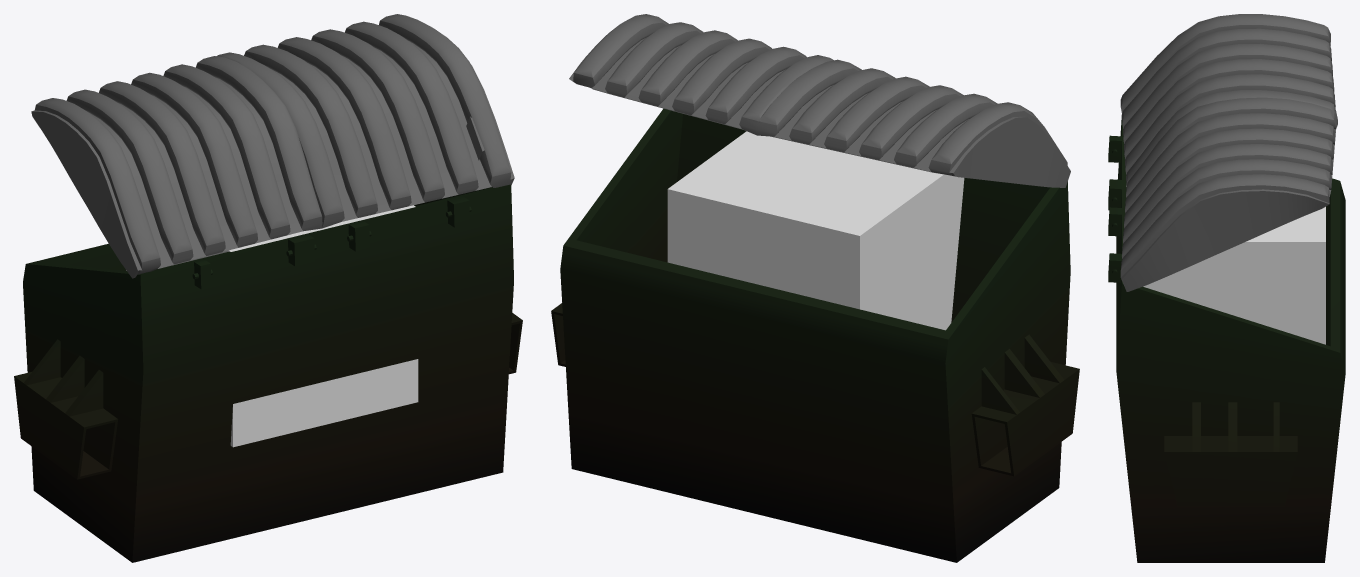
3 views of the same model, side by side, from view 1: azimuth 30°, elevation 25°; view 2: azimuth 150°, elevation 25°; view 3: azimuth 270°, elevation 25° (orthographic). The views are drawn at different scales.
Visible parts, largest first — view 1: pCube1, pPlane2, Cube; view 2: pCube1, Cube, pPlane2; view 3: pCube1, pPlane2, Cube.
Boxes of the visible parts, x1,y1,x2,y2 form: pCube1: (14,184,522,562); pPlane2: (31,14,514,278); Cube: (126,205,418,447); pCube1: (551,108,1079,562); Cube: (667,131,964,330); pPlane2: (569,14,1070,187); pCube1: (1108,116,1345,562); pPlane2: (1120,14,1337,291); Cube: (1126,186,1325,344).
Size of the model in its own units: 4.74 by 4.13 by 2.34.
3 materials, 1 textured.
